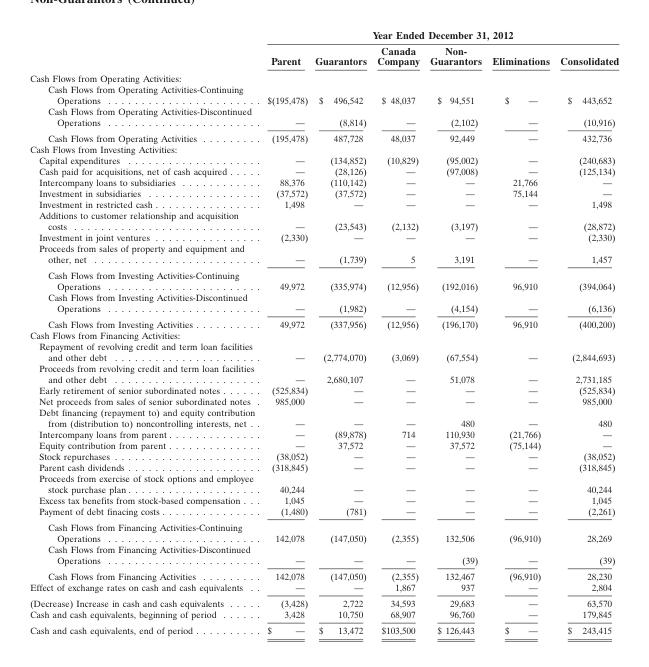table: (29, 28, 618, 635)
table column: (29, 28, 262, 635), (486, 28, 554, 635), (554, 28, 618, 635), (424, 28, 486, 635), (310, 28, 371, 635), (371, 28, 424, 635), (262, 28, 310, 635)
table column header: (29, 28, 618, 69)
table projected row header: (29, 69, 618, 83), (29, 143, 618, 154), (29, 329, 618, 340)
table row: (29, 42, 618, 69), (29, 266, 618, 291), (29, 518, 618, 543), (29, 105, 618, 129), (29, 242, 618, 266), (29, 291, 618, 315), (29, 543, 618, 567), (29, 83, 618, 105), (29, 209, 618, 231), (29, 340, 618, 362), (29, 362, 618, 384), (29, 406, 618, 428), (29, 472, 618, 494), (29, 28, 618, 42), (29, 69, 618, 83), (29, 129, 618, 143), (29, 315, 618, 329), (29, 567, 618, 581), (29, 594, 618, 608), (29, 608, 618, 622), (29, 505, 618, 518), (29, 581, 618, 594), (29, 622, 618, 635), (29, 143, 618, 154), (29, 154, 618, 165), (29, 165, 618, 176), (29, 176, 618, 187), (29, 187, 618, 198), (29, 198, 618, 209), (29, 231, 618, 242), (29, 329, 618, 340), (29, 384, 618, 395), (29, 395, 618, 406), (29, 428, 618, 439), (29, 439, 618, 450), (29, 450, 618, 461), (29, 461, 618, 472), (29, 494, 618, 505)
table spanning cell: (262, 28, 618, 42)
